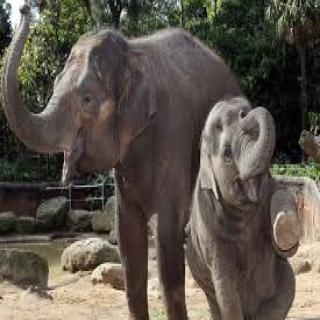Elephant: (2, 1, 243, 320), (188, 96, 308, 320)
